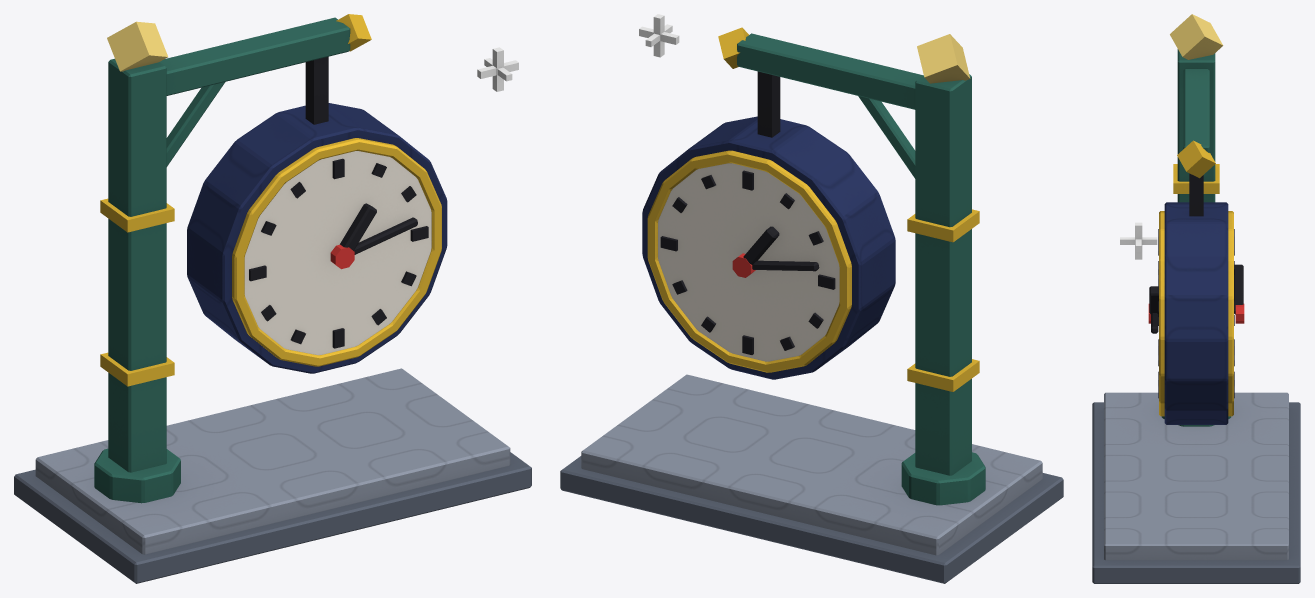
The model's file is StationClock.fbx.
3 views of the same model, side by side, from view 1: azimuth 30°, elevation 25°; view 2: azimuth 150°, elevation 25°; view 3: azimuth 270°, elevation 25° (orthographic). The views are drawn at different scales.
Visible parts, largest first — view 1: Art_StationClock; view 2: Art_StationClock; view 3: Art_StationClock.
Part boxes in pixels (bbox=[...]): Art_StationClock: bbox=[14, 14, 531, 583]; Art_StationClock: bbox=[560, 14, 1063, 583]; Art_StationClock: bbox=[1092, 14, 1300, 583].
Bounding box in the file's own units: 2.78 × 3.29 × 1.44.
